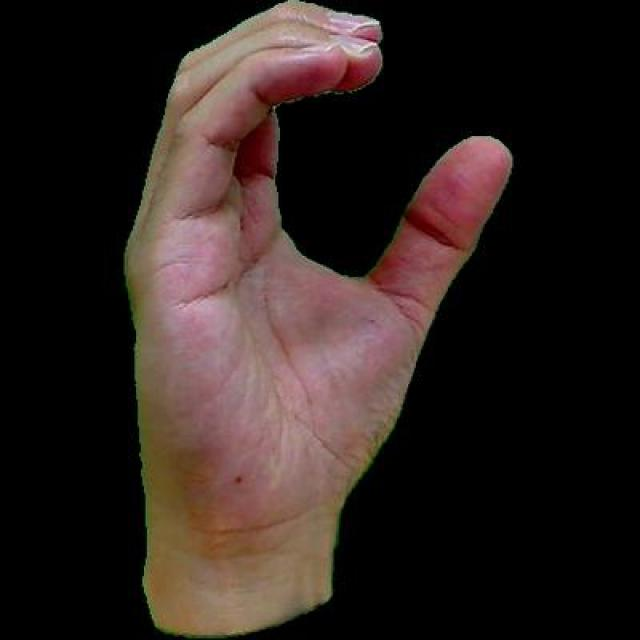c: (99, 0, 522, 637)
